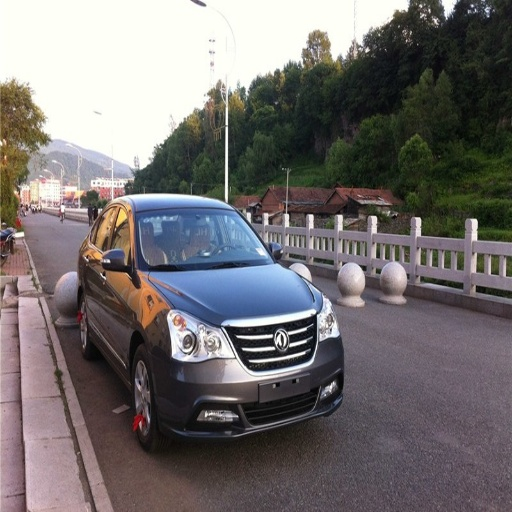front_bumper: (159, 313, 343, 438)
front_right_door: (92, 203, 138, 361)
front_right_light: (166, 307, 231, 359)
